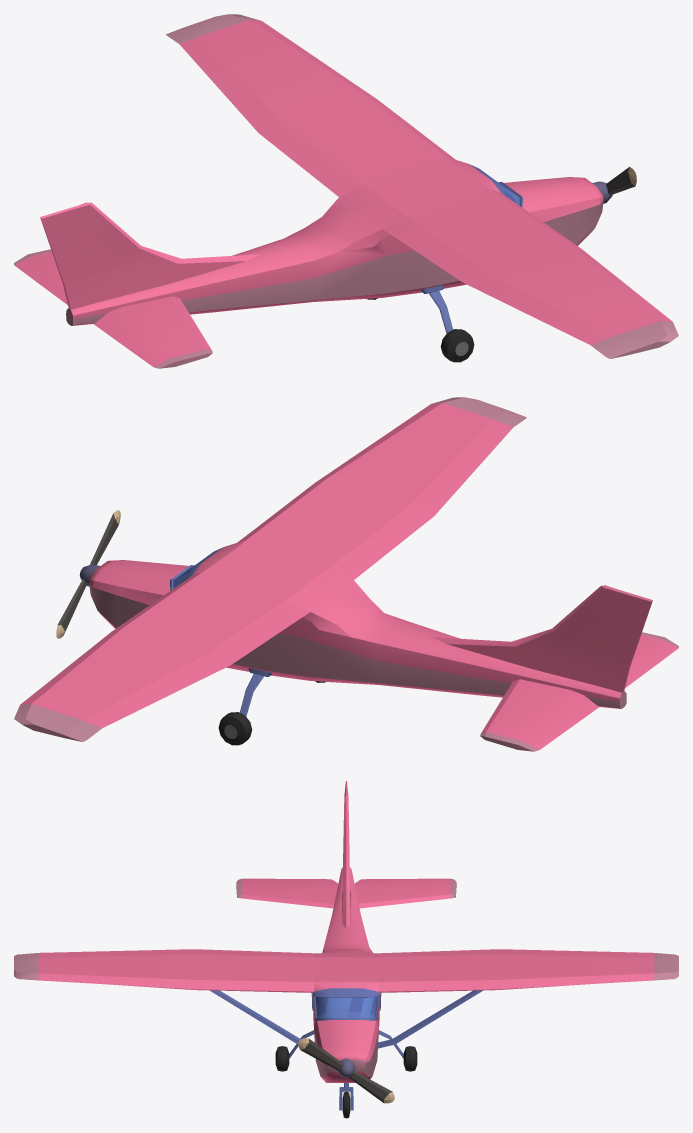
3 renders of one model, top to bottom at view 1: azimuth 30°, elevation 25°; view 2: azimuth 150°, elevation 25°; view 3: azimuth 270°, elevation 25°, orthographic. The views are drawn at different scales.
Parts seen in each view (by area): view 1: Plane_2_E, Propeler; view 2: Plane_2_E, Propeler; view 3: Plane_2_E, Propeler.
Part boxes in pixels (bbox=[...]): Plane_2_E: bbox=[14, 14, 678, 368]; Propeler: bbox=[606, 166, 636, 195]; Plane_2_E: bbox=[14, 397, 678, 751]; Propeler: bbox=[56, 510, 120, 638]; Plane_2_E: bbox=[14, 781, 678, 1118]; Propeler: bbox=[298, 1038, 394, 1103].
Size of the model in its own units: 12.41 by 4.29 by 16.66.
